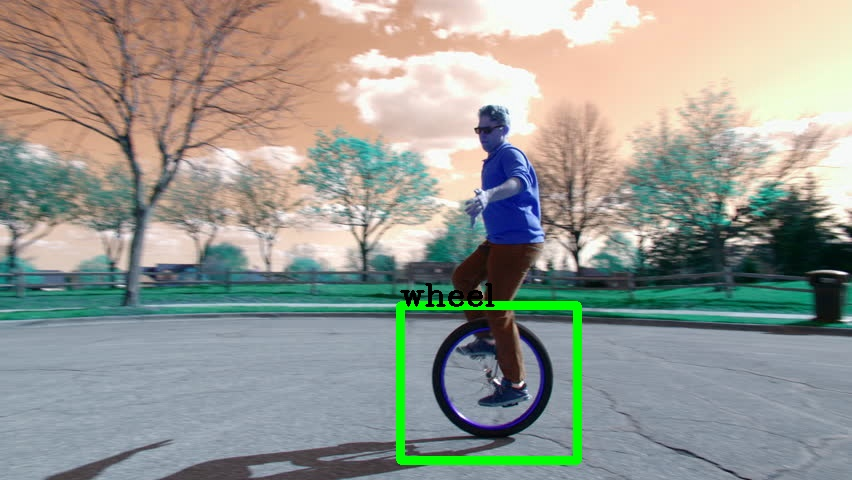wheel: (400, 305, 577, 460)
